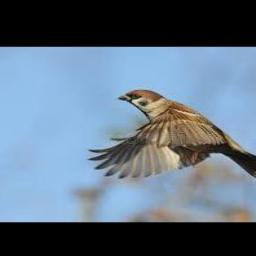Sparrow: (88, 89, 256, 180)
